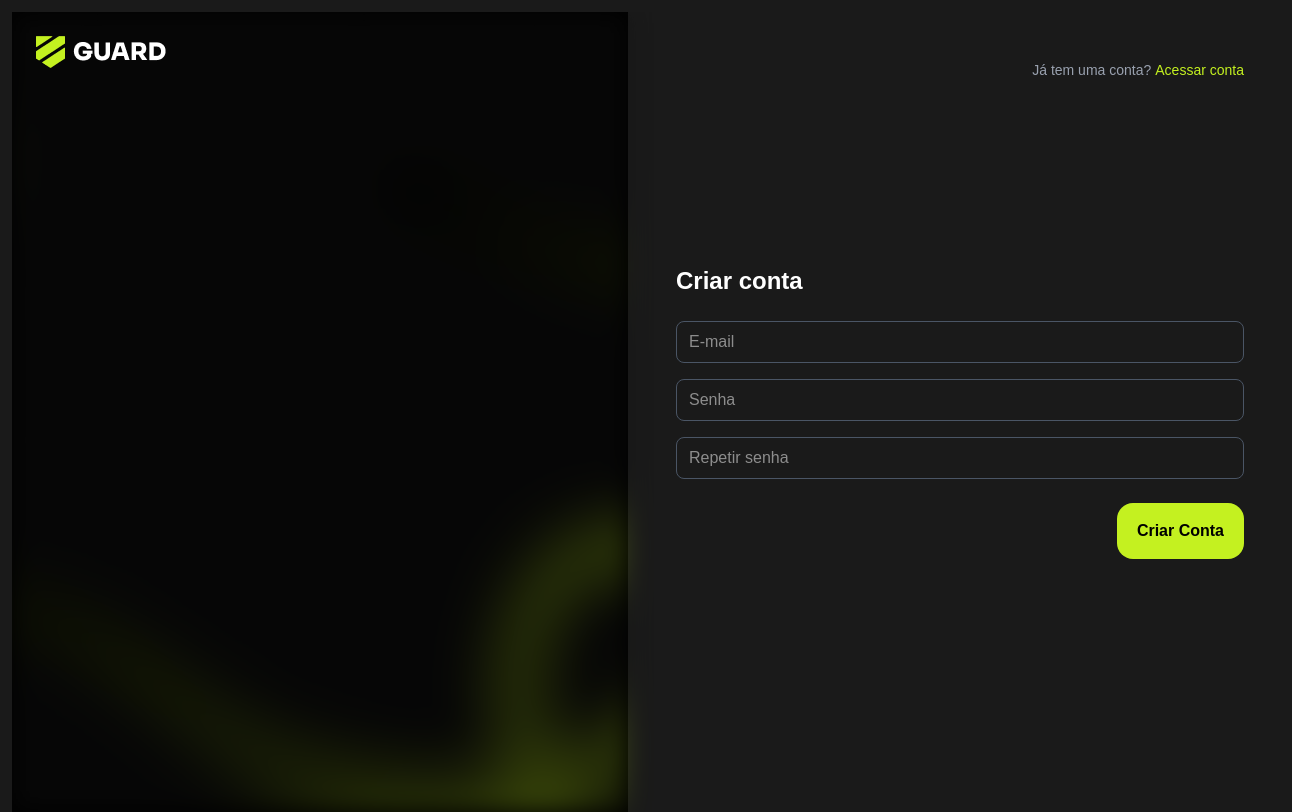
Test case: Register Page - UI simples › mostra erro se senhas não coincidem
In the password field with placeholder "Senha": (960, 400) [676,379,1244,421], type "abc123"
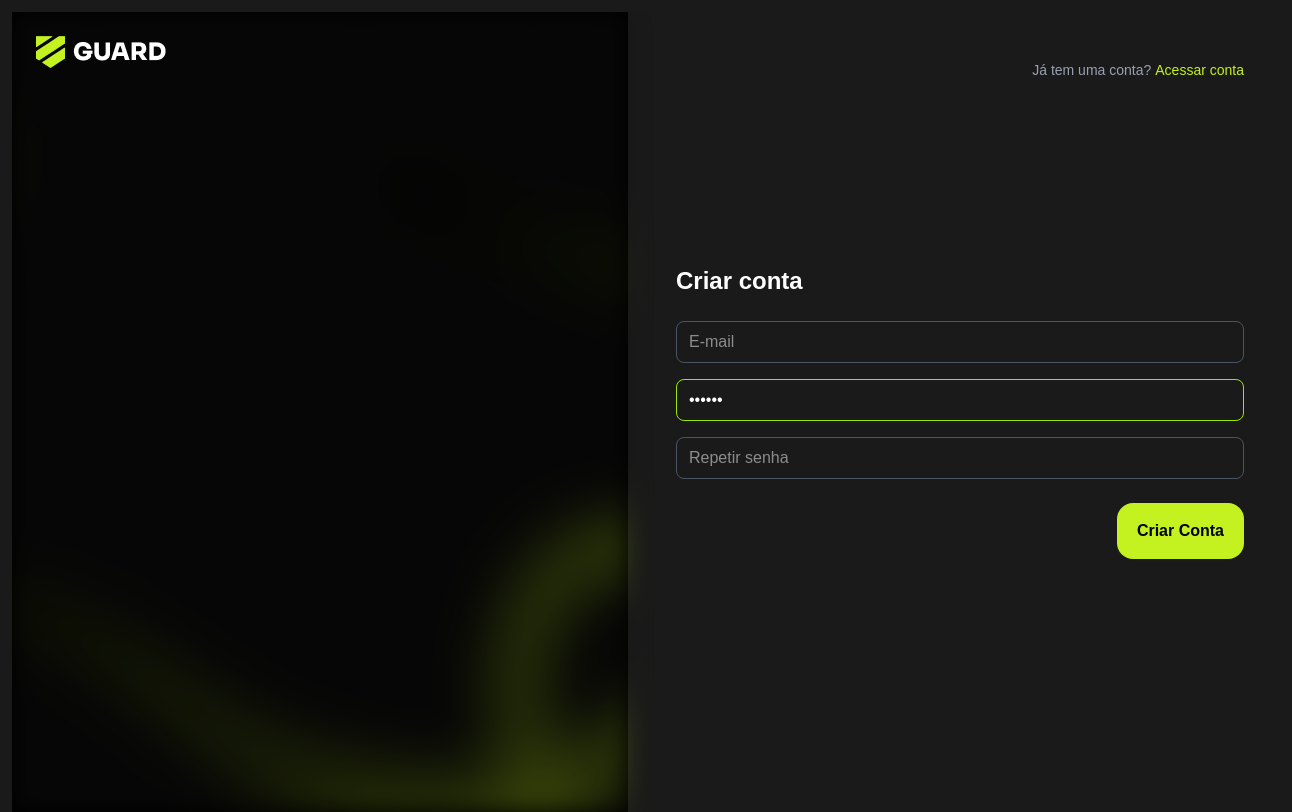
In the password field with placeholder "Repetir senha": (960, 458) [676,437,1244,479], type "123abc"
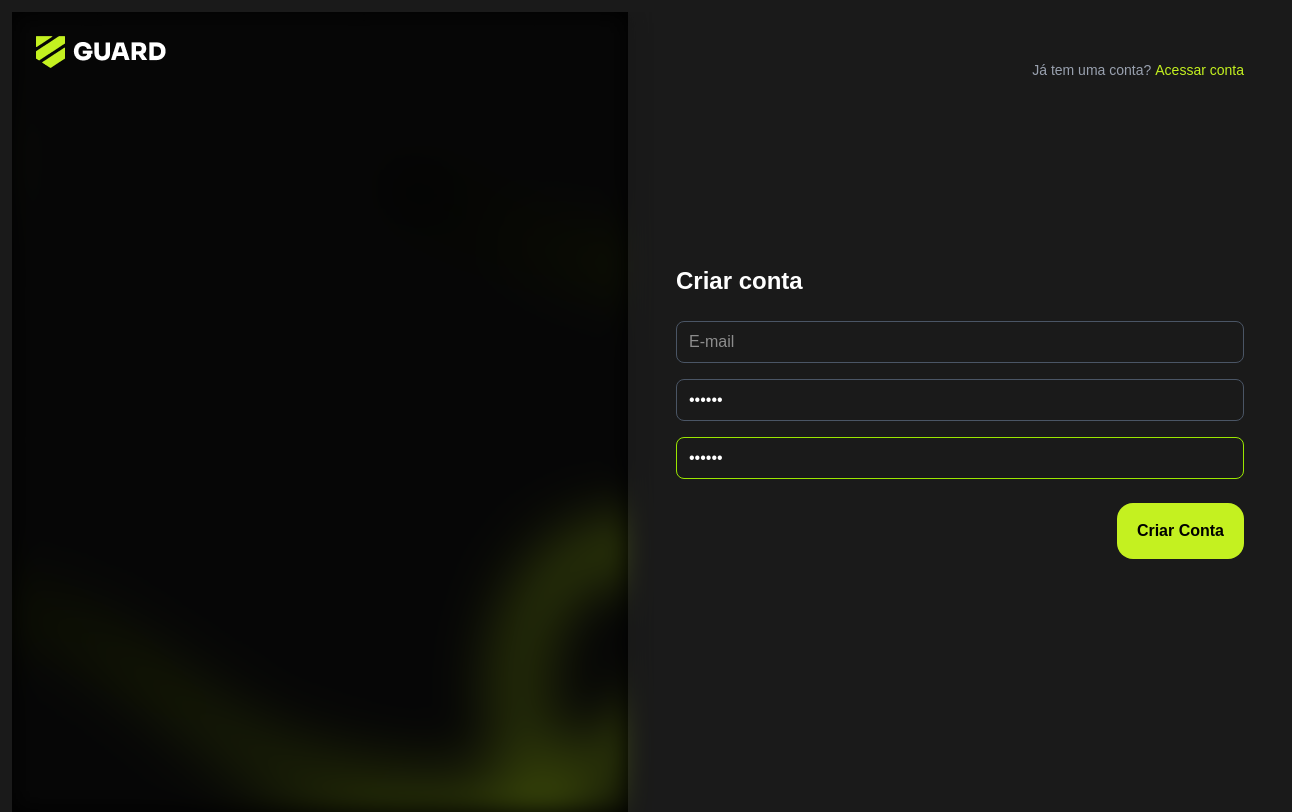
Click the button "Criar Conta": (1180, 531) [1117,503,1244,559]
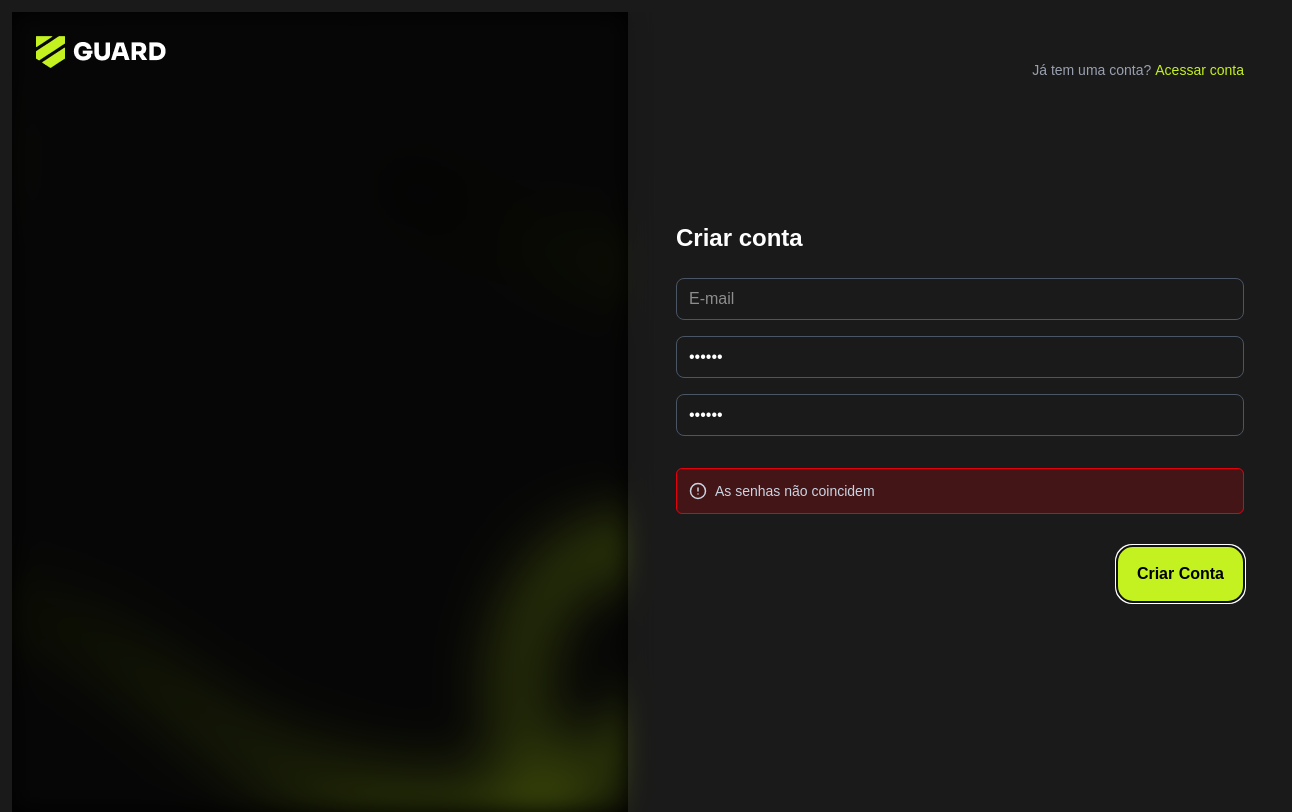
Expected: the text "As senhas não coincidem" is shown, [715,481,874,501]
